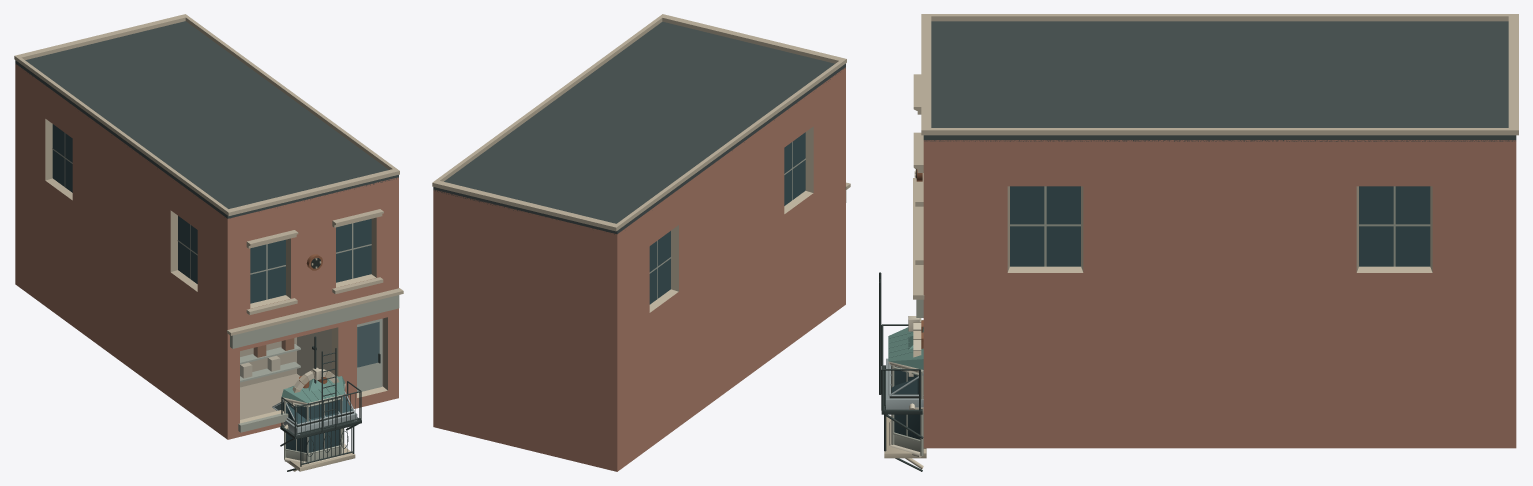
File: architecture.glb
3 renders of one model, left to right at view 1: azimuth 30°, elevation 25°; view 2: azimuth 150°, elevation 25°; view 3: azimuth 270°, elevation 25°, orthographic. The views are drawn at different scales.
Visible parts, largest first — view 1: Architecture_cornerblock__Architecture_BlockBrick, Architecture_cornerblock__Architecture_Slate, Architecture_cornerblock__Architecture_Limestone, Architecture_cornerblock__Architecture_WindowGlass, Architecture_cornerblock__Architecture_ShopGlass, Architecture_cornerblock__Architecture_Sash, Architecture_cornerblock__Architecture_BlockInterior, Architecture_baywindow__Architecture_WindowGlass, Architecture_firelanding__Architecture_Iron, Architecture_baywindow__Architecture_Sash, Architecture_balcony__Architecture_Iron, Architecture_baywindow__Architecture_PatinatedCopper (+4 smaller); view 2: Architecture_cornerblock__Architecture_BlockBrick, Architecture_cornerblock__Architecture_Slate, Architecture_cornerblock__Architecture_Limestone, Architecture_cornerblock__Architecture_WindowGlass; view 3: Architecture_cornerblock__Architecture_BlockBrick, Architecture_cornerblock__Architecture_Slate, Architecture_cornerblock__Architecture_Limestone, Architecture_cornerblock__Architecture_WindowGlass, Architecture_cornerblock__Architecture_Sash, Architecture_baywindow__Architecture_PatinatedCopper, Architecture_baywindow__Architecture_Sash, Architecture_firelanding__Architecture_Iron, Architecture_baywindow__Architecture_WindowGlass, Architecture_rooflantern__Architecture_Zinc.
Part boxes in pixels (box(x1,y1,x2,y2)): Architecture_cornerblock__Architecture_BlockBrick: box(15, 63, 398, 439); Architecture_cornerblock__Architecture_Slate: box(15, 21, 398, 218); Architecture_cornerblock__Architecture_Limestone: box(14, 14, 403, 423); Architecture_cornerblock__Architecture_WindowGlass: box(52, 124, 379, 367); Architecture_cornerblock__Architecture_ShopGlass: box(240, 319, 382, 419); Architecture_cornerblock__Architecture_Sash: box(52, 133, 399, 432); Architecture_cornerblock__Architecture_BlockInterior: box(240, 329, 331, 419); Architecture_baywindow__Architecture_WindowGlass: box(286, 400, 340, 452); Architecture_firelanding__Architecture_Iron: box(280, 381, 361, 446); Architecture_baywindow__Architecture_Sash: box(284, 397, 344, 462); Architecture_balcony__Architecture_Iron: box(287, 420, 354, 471); Architecture_baywindow__Architecture_PatinatedCopper: box(281, 376, 344, 403); Architecture_cornerblock__Architecture_BlockBrick: box(433, 67, 845, 471); Architecture_cornerblock__Architecture_Slate: box(433, 21, 845, 234); Architecture_cornerblock__Architecture_Limestone: box(432, 14, 850, 312); Architecture_cornerblock__Architecture_WindowGlass: box(649, 132, 805, 304); Architecture_cornerblock__Architecture_BlockBrick: box(923, 140, 1516, 448); Architecture_cornerblock__Architecture_Slate: box(923, 21, 1516, 141); Architecture_cornerblock__Architecture_Limestone: box(913, 14, 1518, 299); Architecture_cornerblock__Architecture_WindowGlass: box(1010, 186, 1430, 266); Architecture_cornerblock__Architecture_Sash: box(916, 186, 1430, 320); Architecture_baywindow__Architecture_PatinatedCopper: box(888, 327, 923, 369); Architecture_baywindow__Architecture_Sash: box(891, 365, 923, 455); Architecture_firelanding__Architecture_Iron: box(881, 324, 923, 438); Architecture_baywindow__Architecture_WindowGlass: box(894, 370, 920, 439); Architecture_rooflantern__Architecture_Zinc: box(886, 358, 923, 409).
Bounding box in the file's own units: 6.05 × 9.22 × 13.93.
